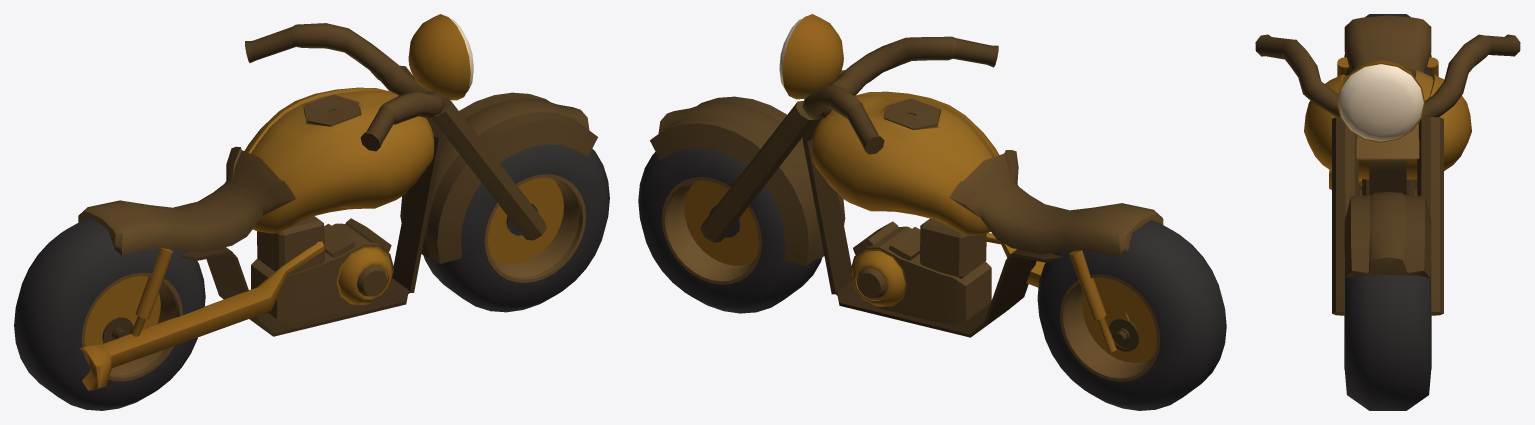
Rendered from Moto1.fbx.
3 renders of one model, left to right at view 1: azimuth 30°, elevation 25°; view 2: azimuth 150°, elevation 25°; view 3: azimuth 270°, elevation 25°, orthographic.
Visible parts, largest first — view 1: Moto1; view 2: Moto1; view 3: Moto1.
Part boxes in pixels (x1,y1,x2,y2): Moto1: (14, 14, 609, 410); Moto1: (638, 14, 1226, 410); Moto1: (1255, 14, 1520, 410).
Size of the model in its own units: 240 by 121 by 95.38.
